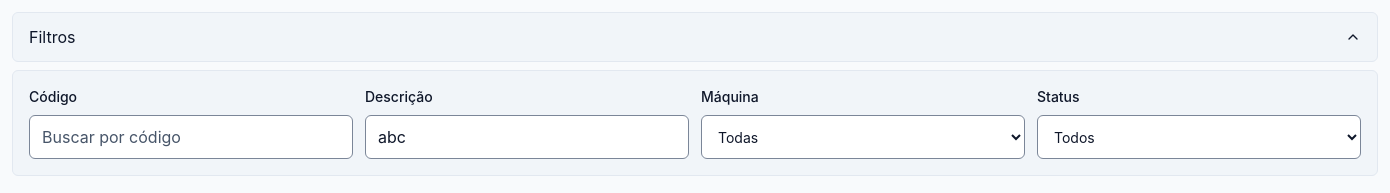
ModelosFilters › seção recolhível › deve mostrar 1 ativo no resumo quando só um filtro está preenchido
Click the button "Filtros". click: point(52, 37)
box: top-left (12, 12), bottom-right (1378, 62)
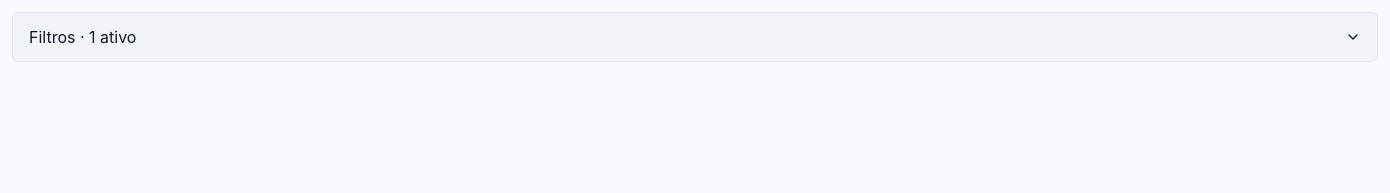
expect the button reads "Filtros · 1 ativo": met, box top-left (12, 12), bottom-right (1378, 62)
